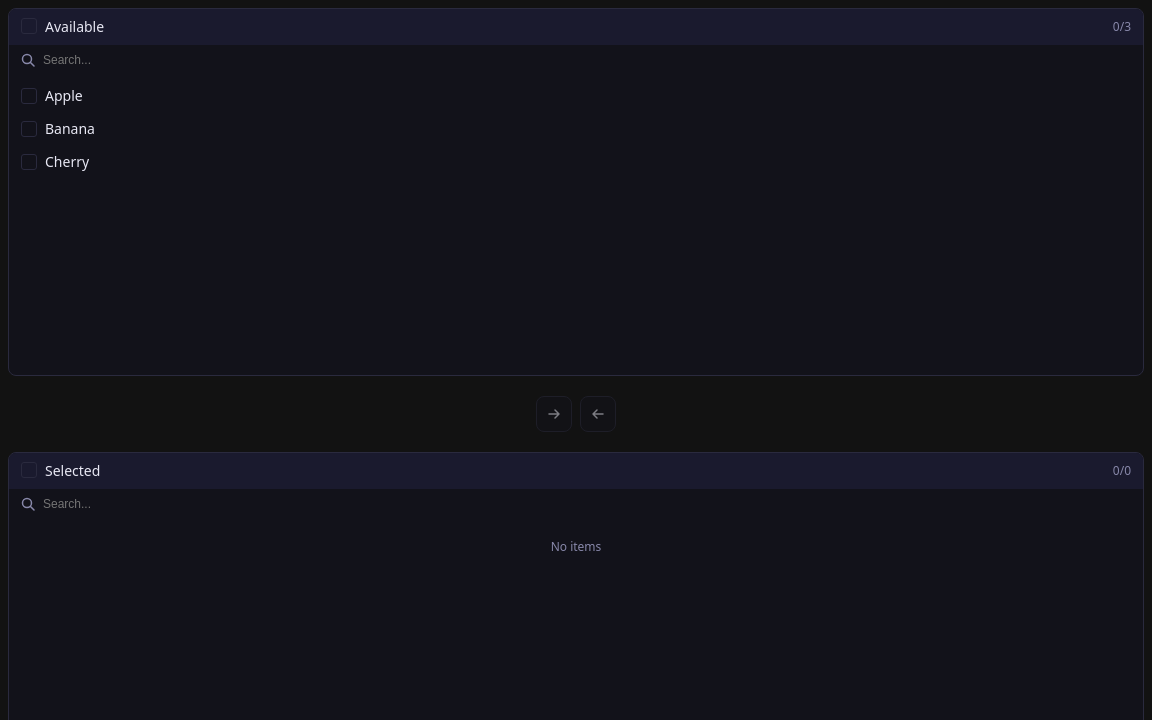
Test: TkxTransferList › search filters the visible rows
This screenshot has width=1152, height=720.
Step 1. Type "ban" into the field named "Search Available" → {"x": 586, "y": 60}, box [41,51,1131,69]
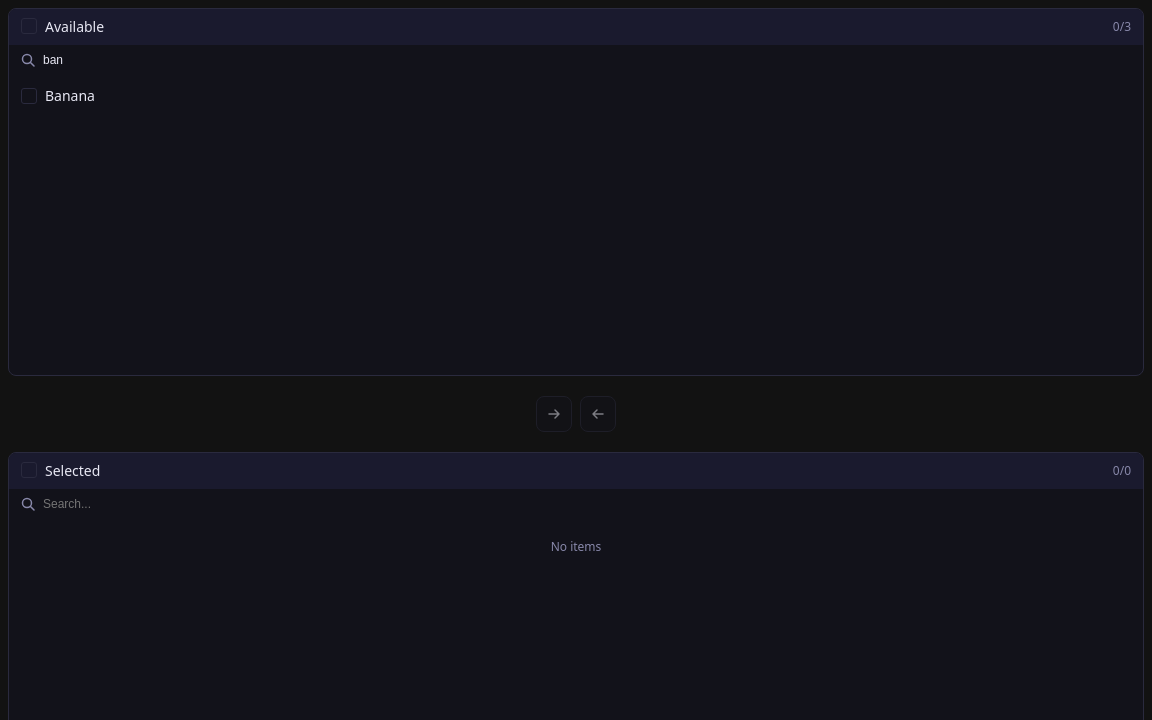
Expected: the text "Banana" is shown, [45,86,95,106]
Result: the option "Apple" is gone
